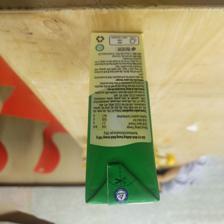NSPN_Hop: (84, 30, 162, 205)
